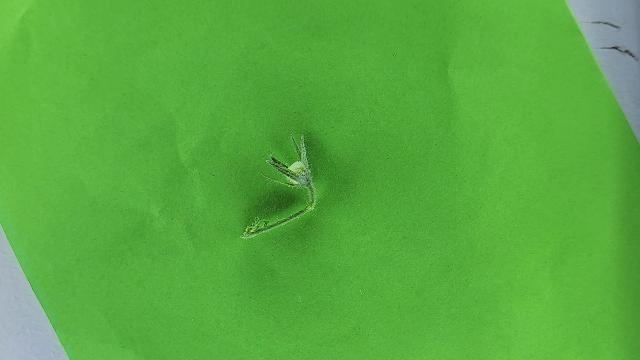Fruit Bud: (262, 134, 312, 190)
